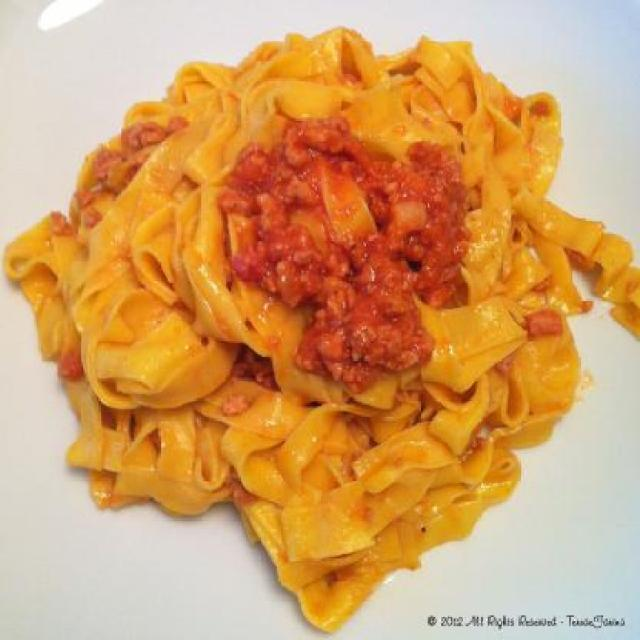Pasta al ragu: (26, 26, 608, 549)
